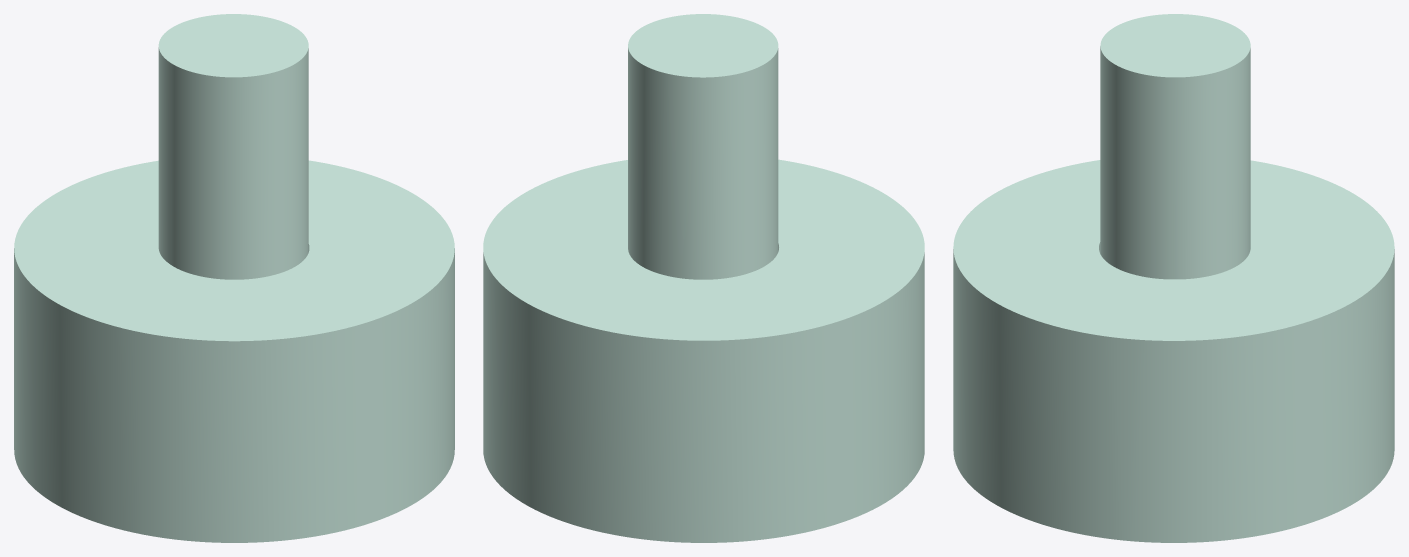
3 views of the same model, side by side, from view 1: azimuth 30°, elevation 25°; view 2: azimuth 150°, elevation 25°; view 3: azimuth 270°, elevation 25° (orthographic).
Visible parts, largest first — view 1: Renderer Node; view 2: Renderer Node; view 3: Renderer Node.
Boxes of the visible parts, bbox=[...] form: Renderer Node: bbox=[14, 14, 454, 542]; Renderer Node: bbox=[483, 14, 924, 542]; Renderer Node: bbox=[953, 14, 1394, 542].
Bounding box in the file's own units: 0.7419 × 0.75 × 0.7421.
